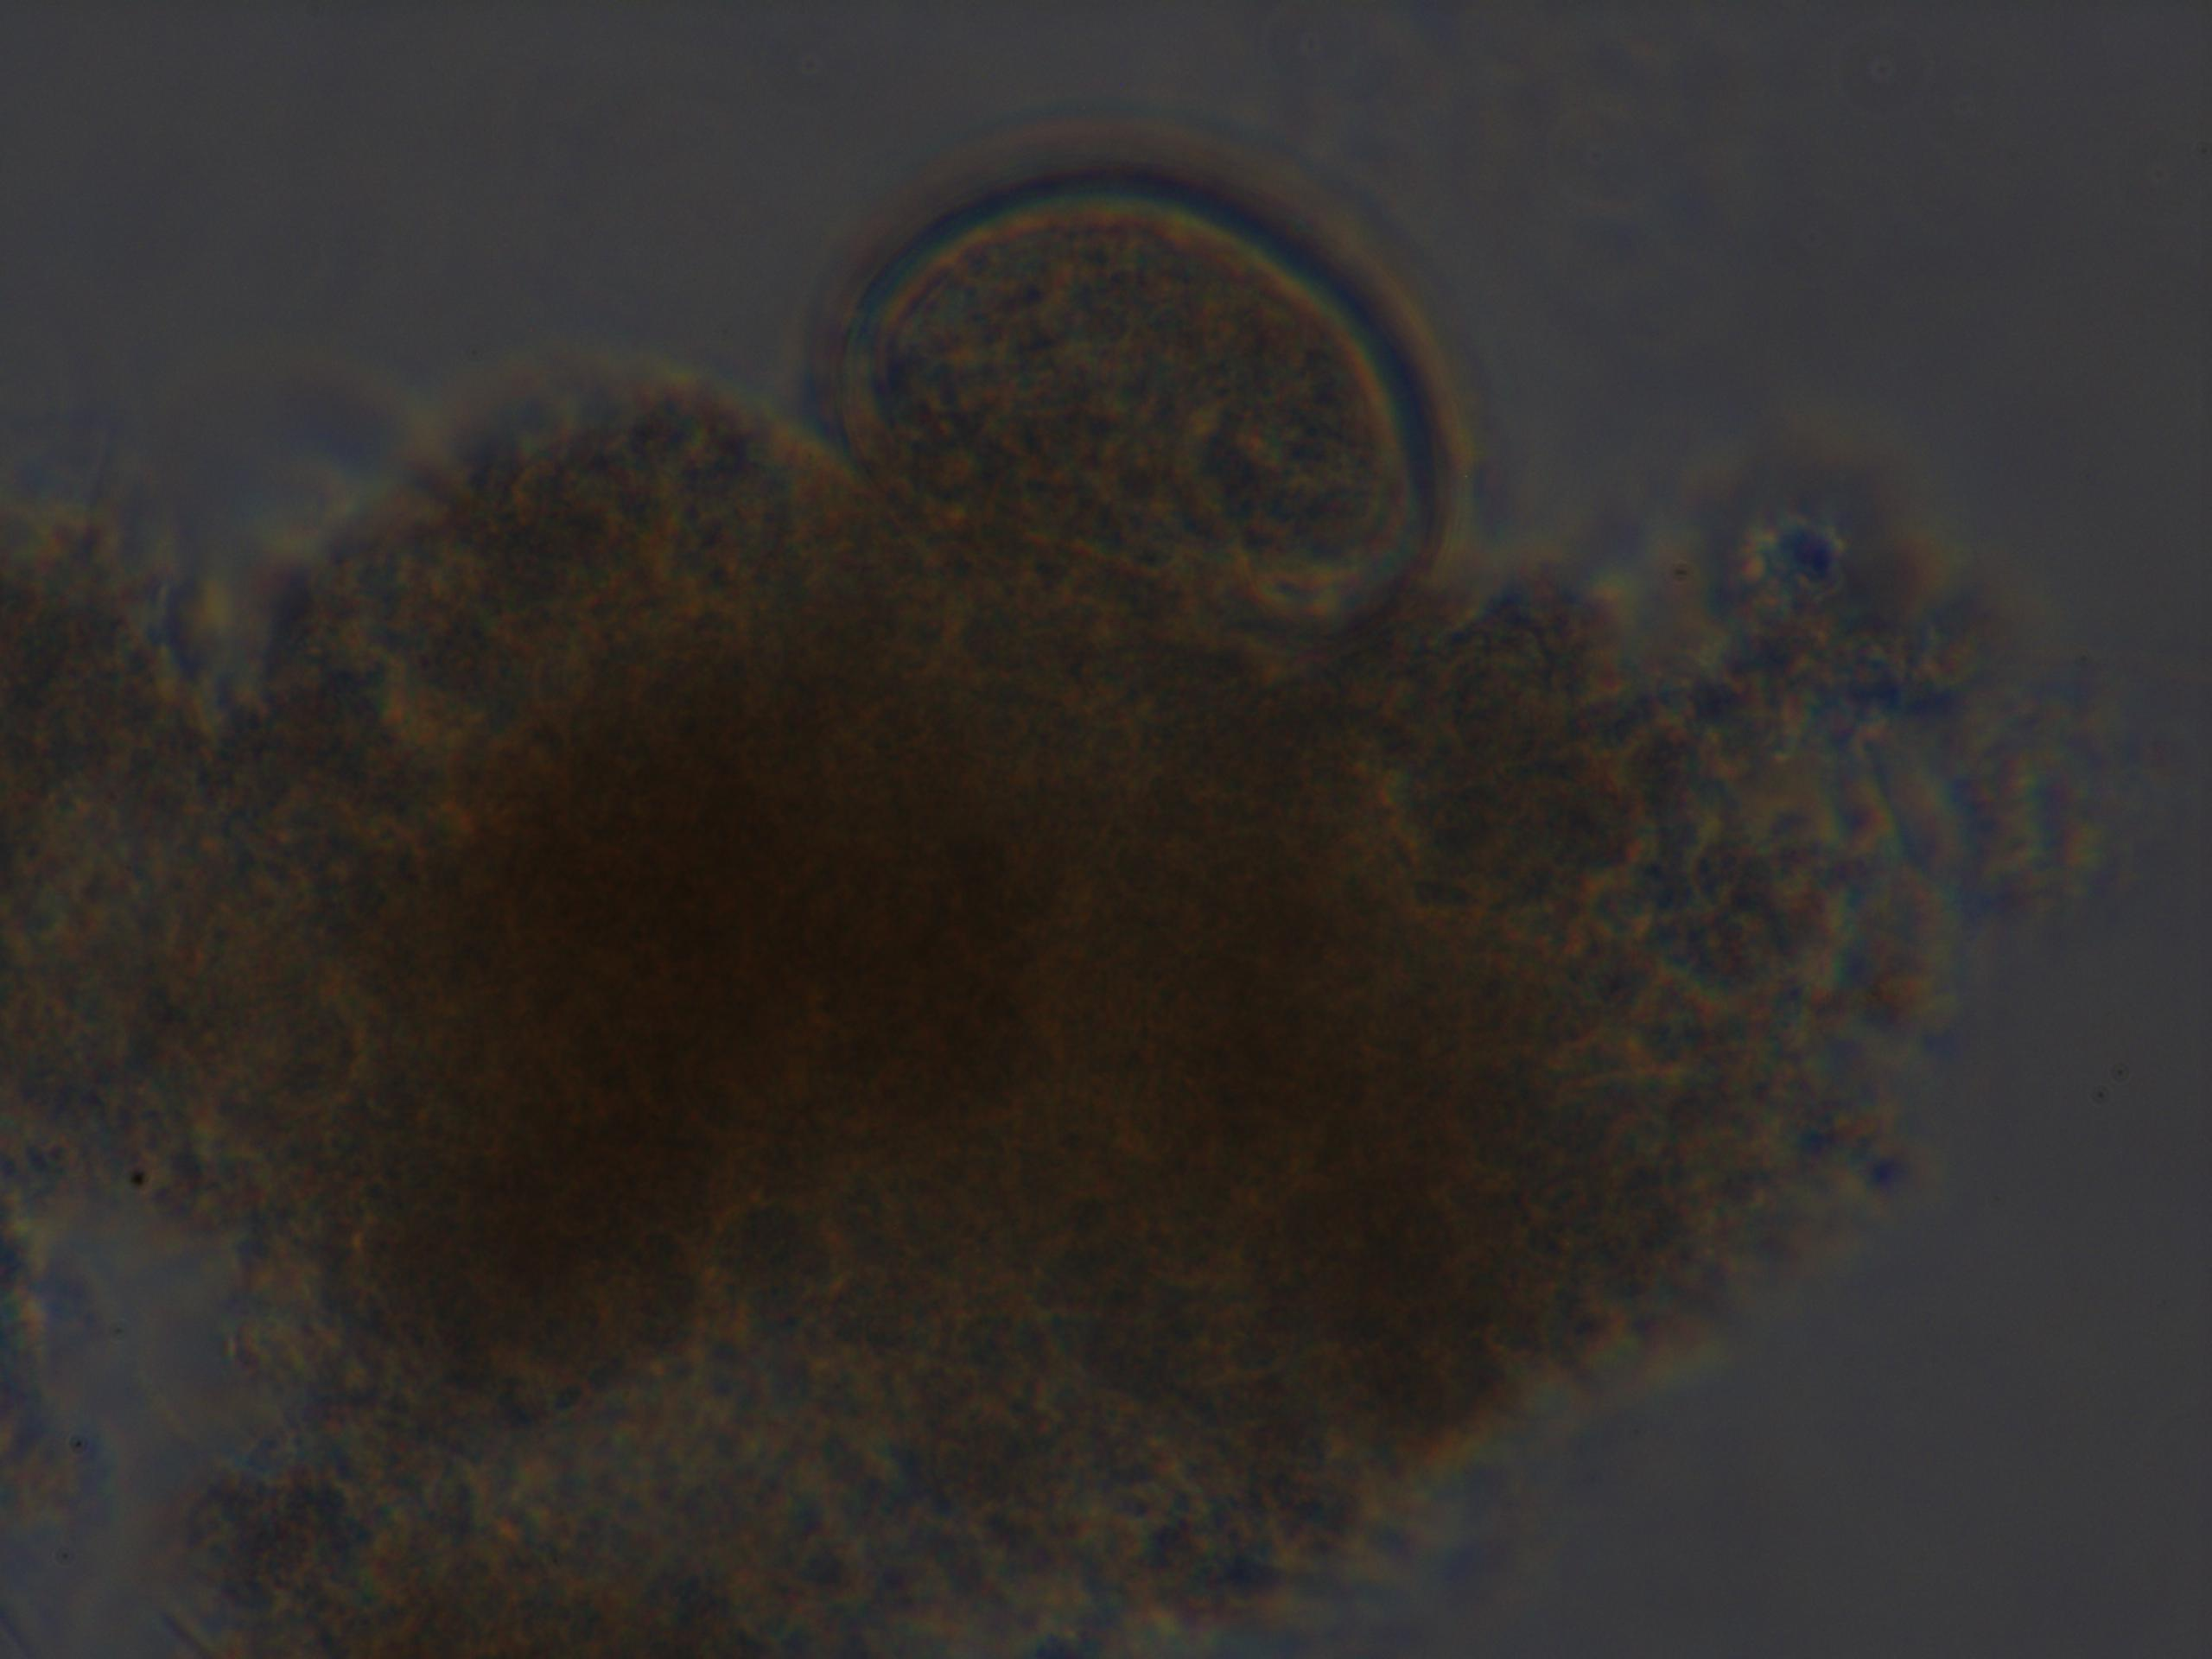protozoa: (768, 108, 1451, 657)
